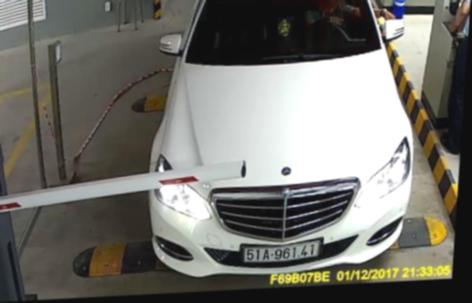License_Plate: (240, 236, 321, 264)
